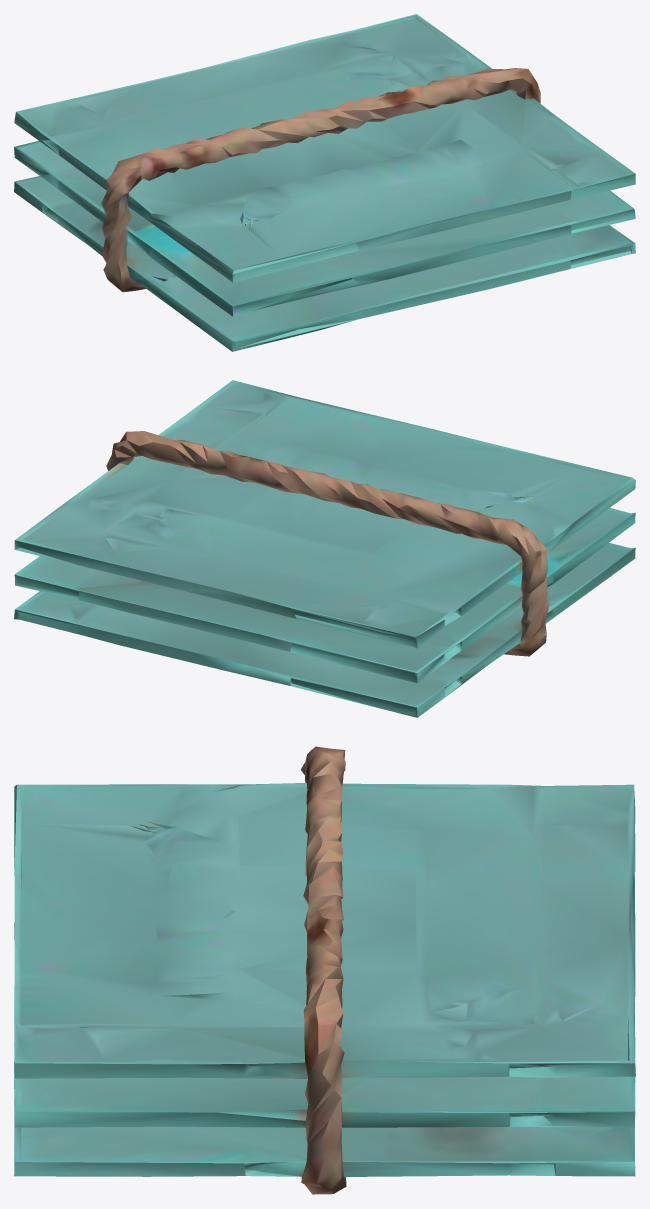
Rendered from mat_glass_list_stekla_idle.glb.
3 renders of one model, top to bottom at view 1: azimuth 30°, elevation 25°; view 2: azimuth 150°, elevation 25°; view 3: azimuth 270°, elevation 25°, orthographic. The views are drawn at different scales.
Parts seen in each view (by area): view 1: tripo_node_89c5c675-41f7-41aa-a5a0-b73b58acdc0a; view 2: tripo_node_89c5c675-41f7-41aa-a5a0-b73b58acdc0a; view 3: tripo_node_89c5c675-41f7-41aa-a5a0-b73b58acdc0a.
Boxes of the visible parts, <box> form: tripo_node_89c5c675-41f7-41aa-a5a0-b73b58acdc0a: <box>14,14,635,351</box>; tripo_node_89c5c675-41f7-41aa-a5a0-b73b58acdc0a: <box>14,380,635,717</box>; tripo_node_89c5c675-41f7-41aa-a5a0-b73b58acdc0a: <box>14,746,635,1194</box>.
Bounding box in the file's own units: 0.3011 × 0.0892 × 0.2602.
1 material, 1 textured.
